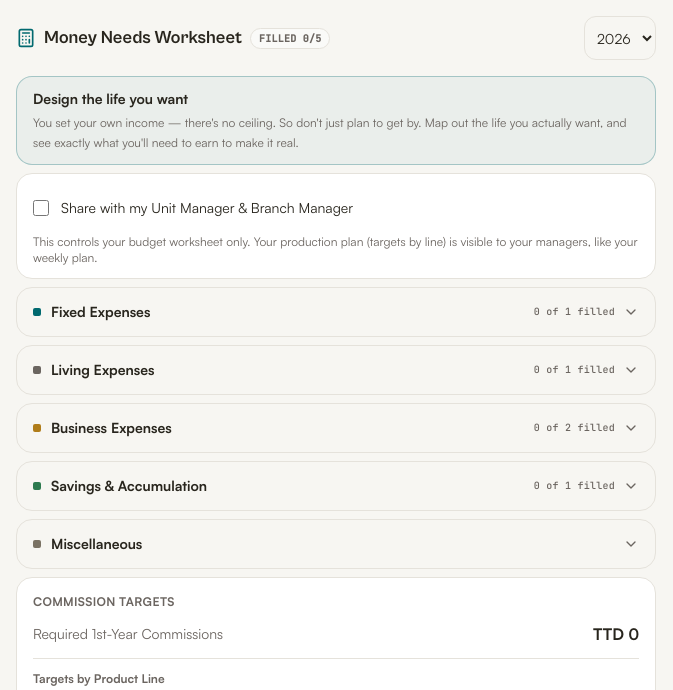
Scenario: MoneyNeedsPanel — floating calculators › manual LineItemRow renders a long Description label in full (no truncation of the value)
Expected: the heading "Money Needs Worksheet" is shown, [44, 24, 242, 52]
Expected: the button "Business Expenses 0 of 2 filled" is shown, [17, 404, 655, 452]
Click the button "Fixed Expenses 0 of 1 filled". click: x=101, y=312
box: [17, 288, 655, 336]
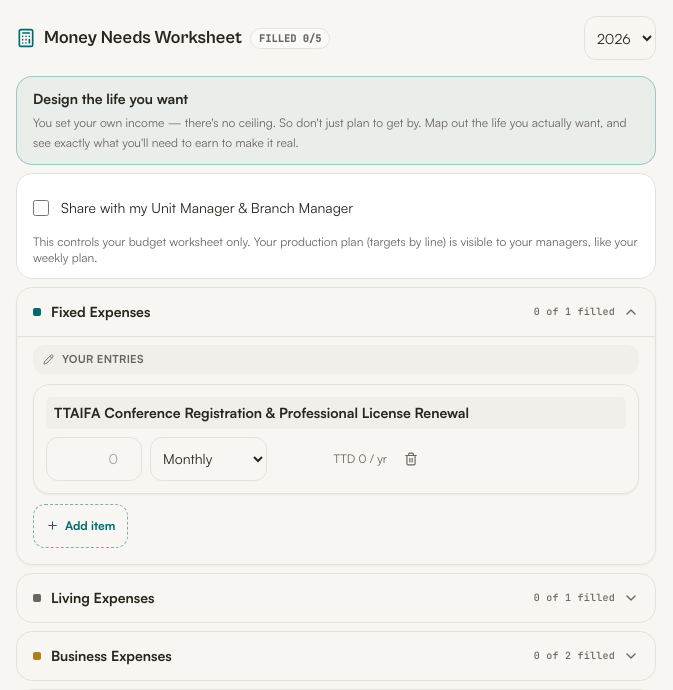
Now the field named "Expense description" holds "TTAIFA Conference Registration & Professional License Renewal", box [46, 396, 626, 428]
